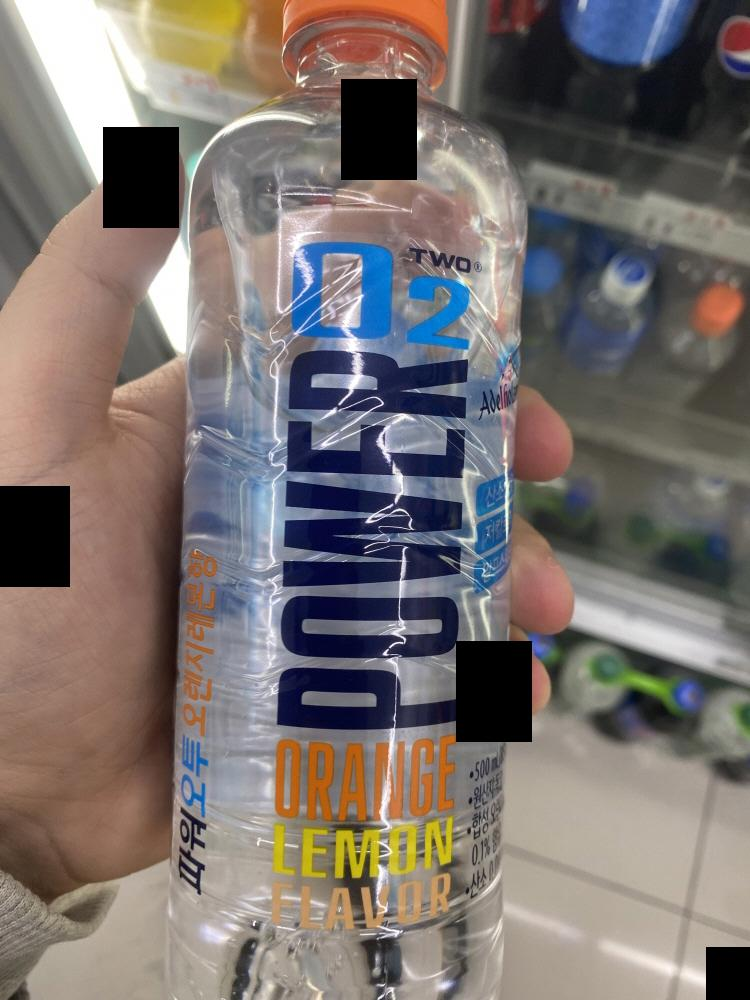powerO2_orange: (173, 0, 539, 999)
